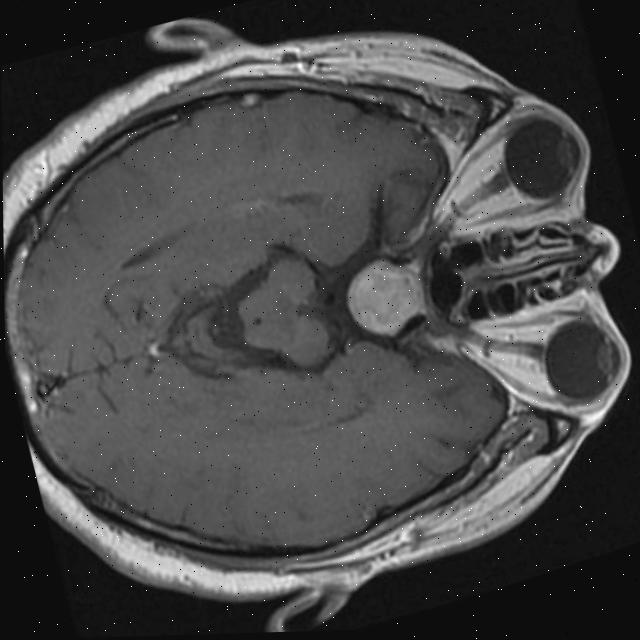Pituitary: (337, 249, 436, 348)
